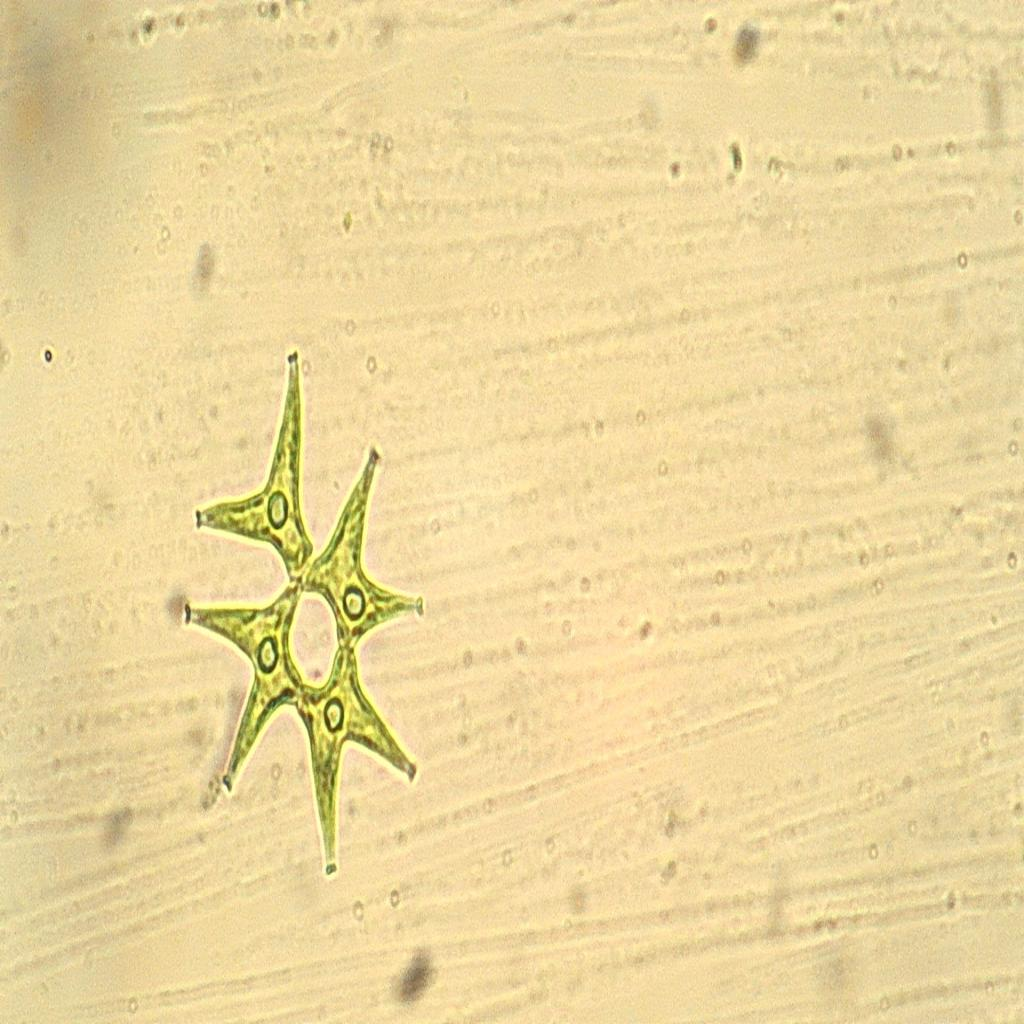Pediastrum_CT: (172, 338, 450, 902)
